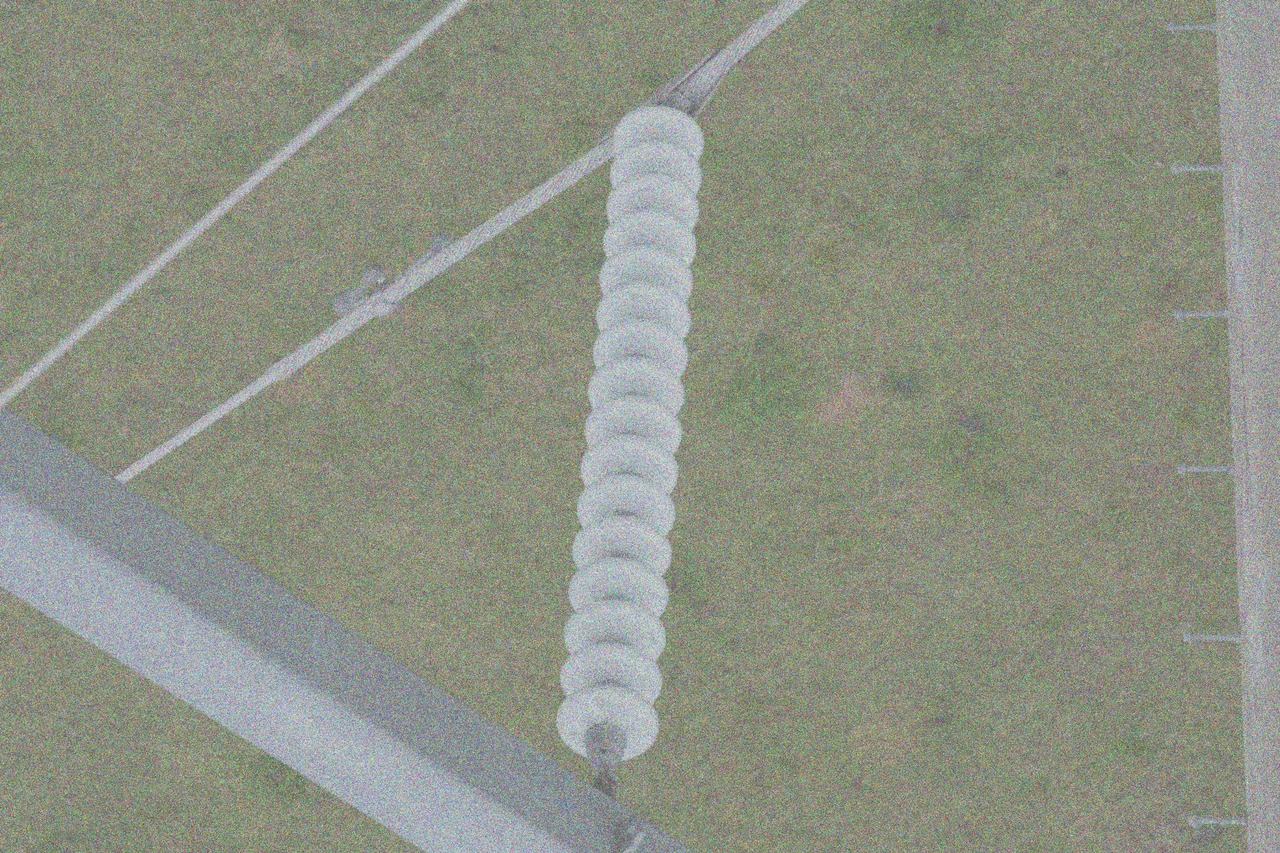Flashover damage: (553, 683, 662, 766), (573, 473, 683, 538)
No issues: (561, 598, 671, 664), (575, 432, 685, 498), (567, 556, 676, 622), (569, 514, 678, 579), (583, 356, 690, 416), (581, 393, 684, 453), (600, 206, 701, 265), (602, 170, 703, 229), (589, 281, 691, 339), (591, 316, 691, 375), (599, 240, 697, 298), (606, 138, 707, 193), (608, 103, 709, 157), (559, 642, 670, 686)
String: (552, 101, 706, 770)
